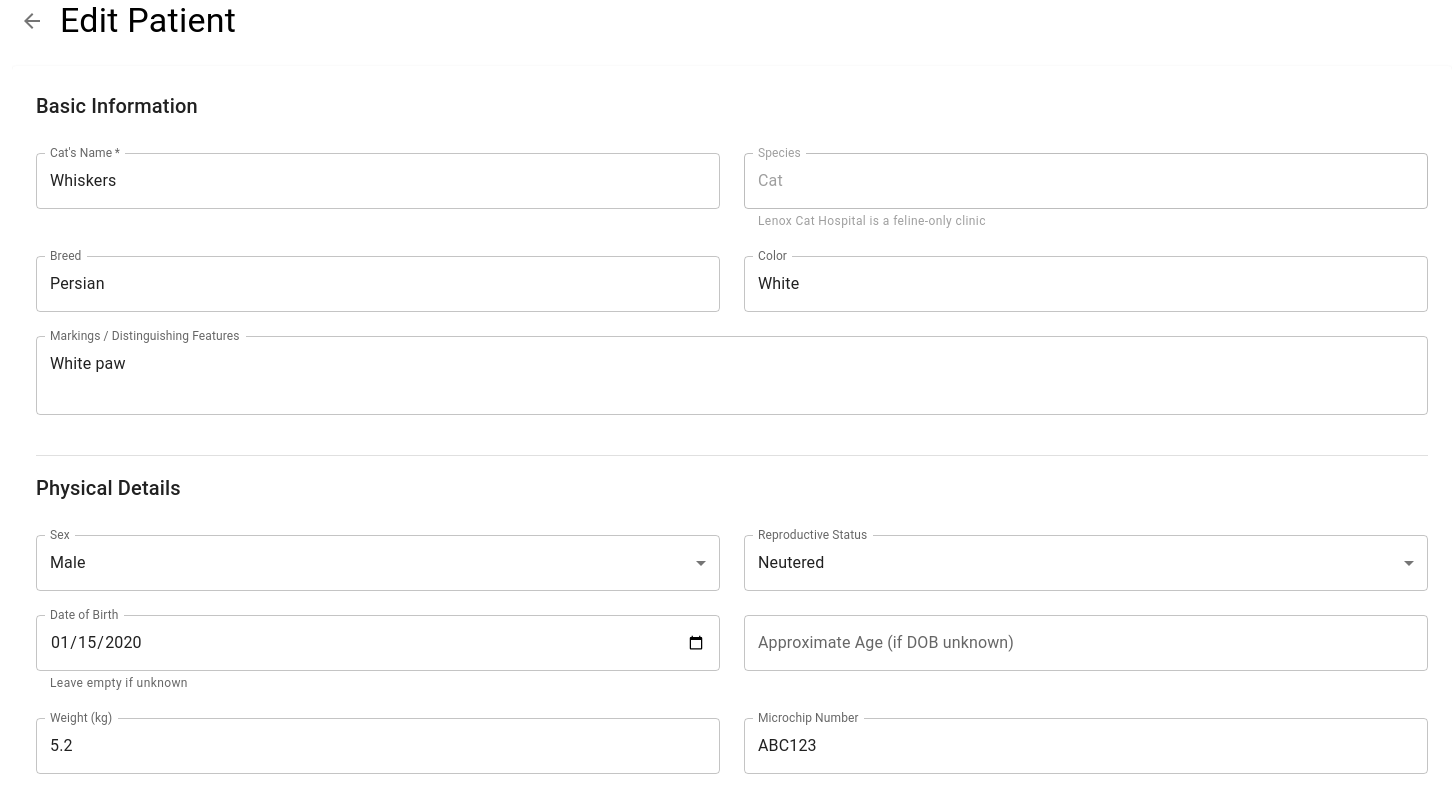
Test: PatientForm Component › Edit Mode › shows error message on update failure
Replace the text in the field labelled "Cat's Name *" with "Updated Name" at [378, 181], box [36,153,720,209]
(page scrolled)
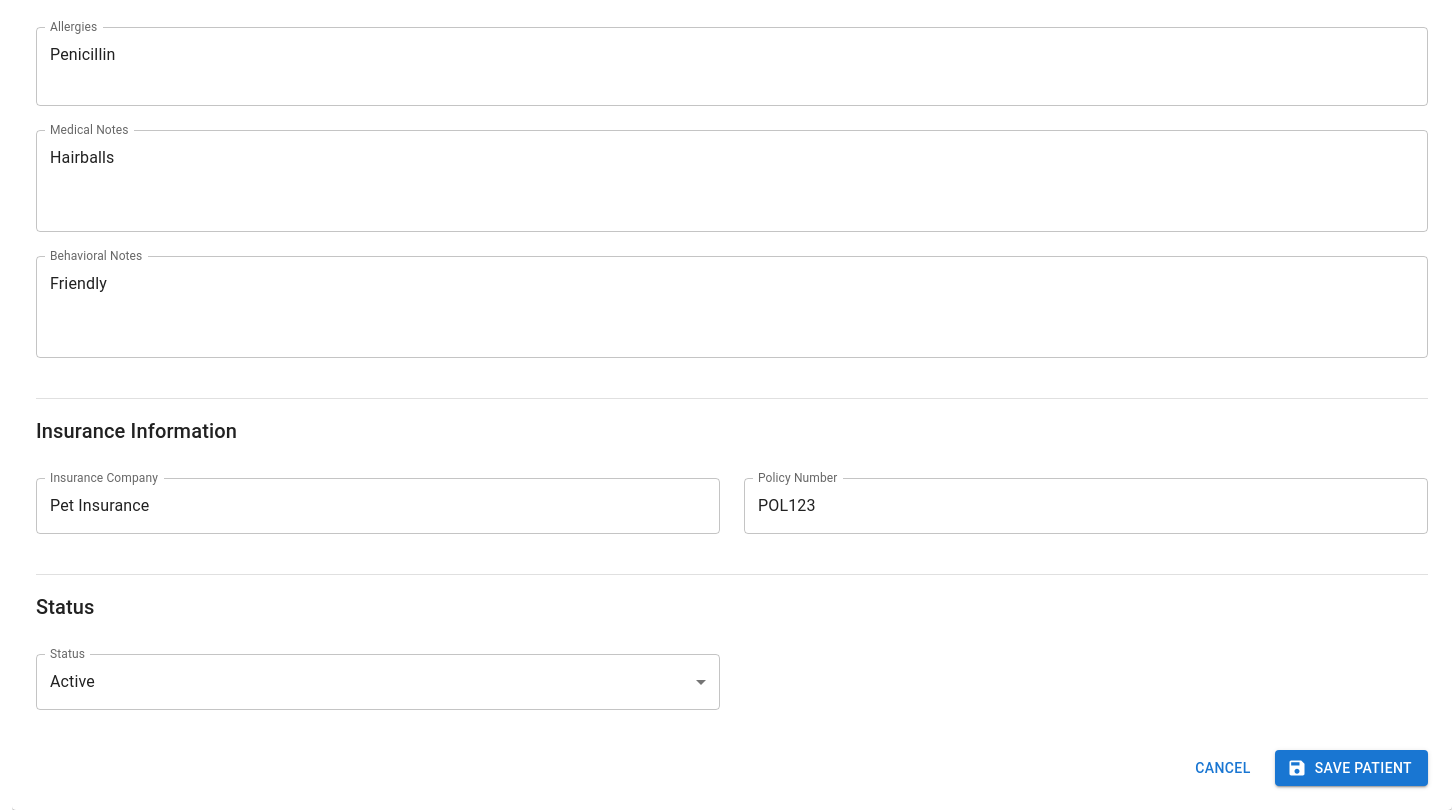
Click the button "Save Patient" at [1351, 768], box [1275,750,1428,786]
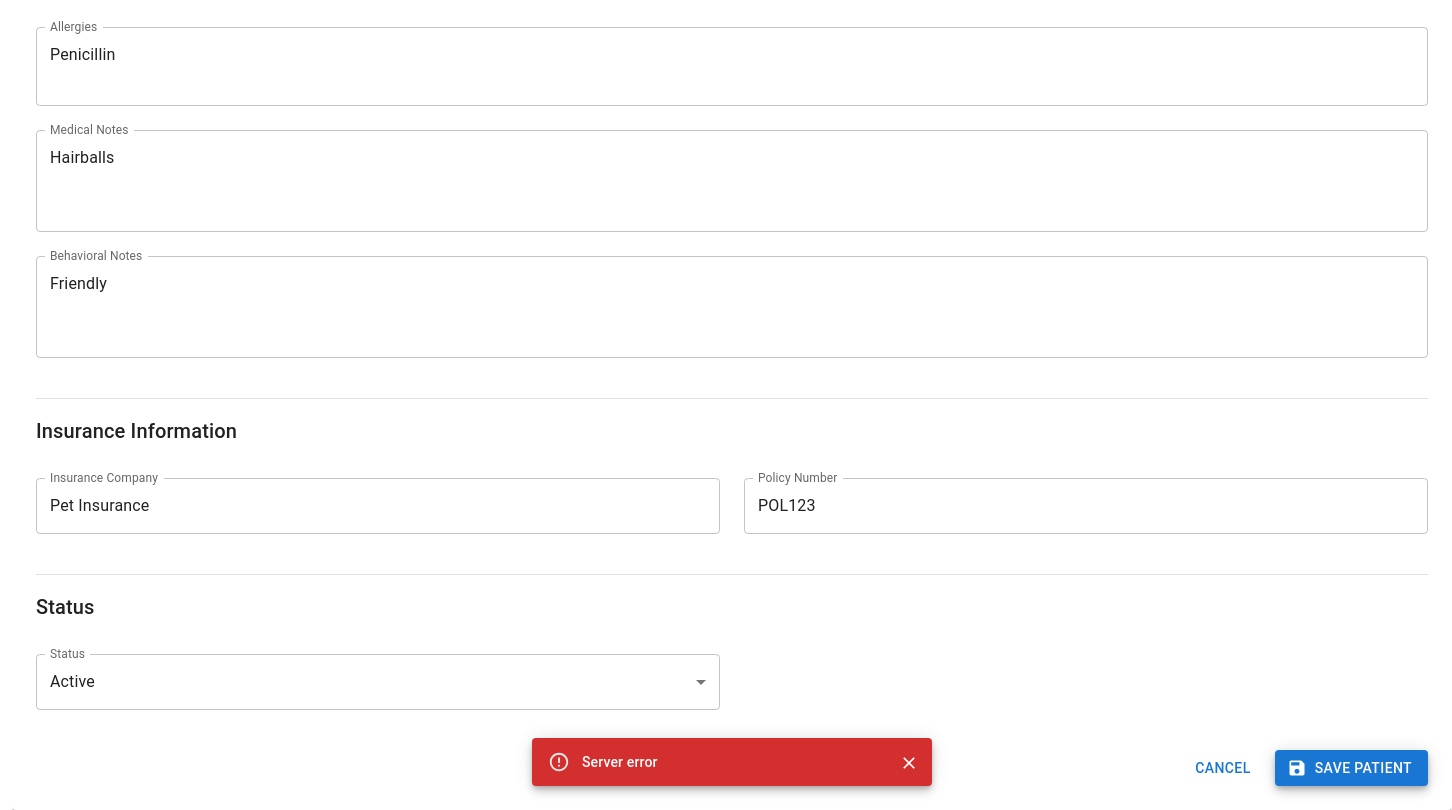
Expected: the text "Server error" is shown, [582,754,658,770]
